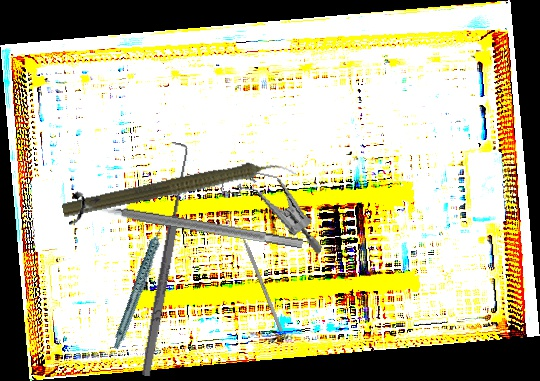Fixation Ring: (68, 188, 306, 263)
Handpiece: (60, 150, 298, 227), (88, 216, 195, 351)
Hook Surgical: (130, 141, 195, 378)
Pusher: (233, 218, 284, 332)
Speculum: (207, 161, 336, 256)
